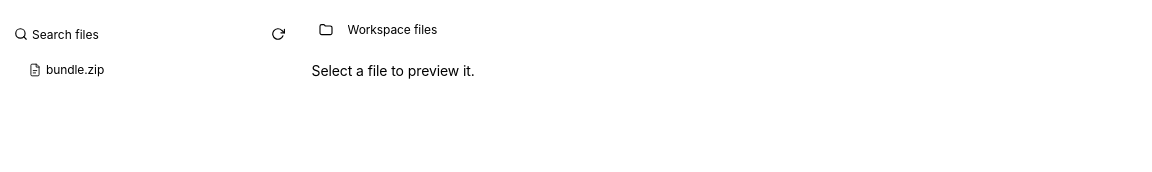
Test: workspace files panel request ownership › retains file actions for unsupported binary formats without reading them as text
Click the text with class "workspace-files__name": (75, 69) [46,62,104,77]
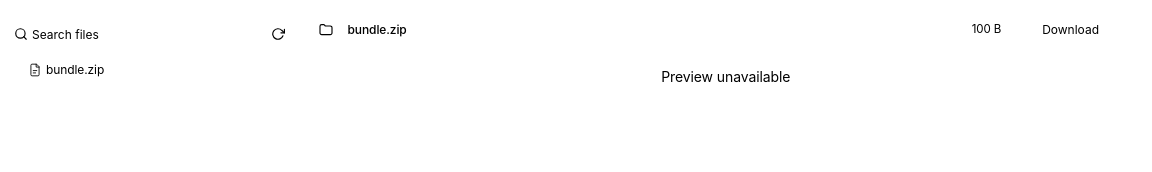
Check: the message "Preview unavailable" is shown, box [661,66,790,88]
Check: the element with class "workspace-resource-actions" is shown, box [1009,16,1140,44]
